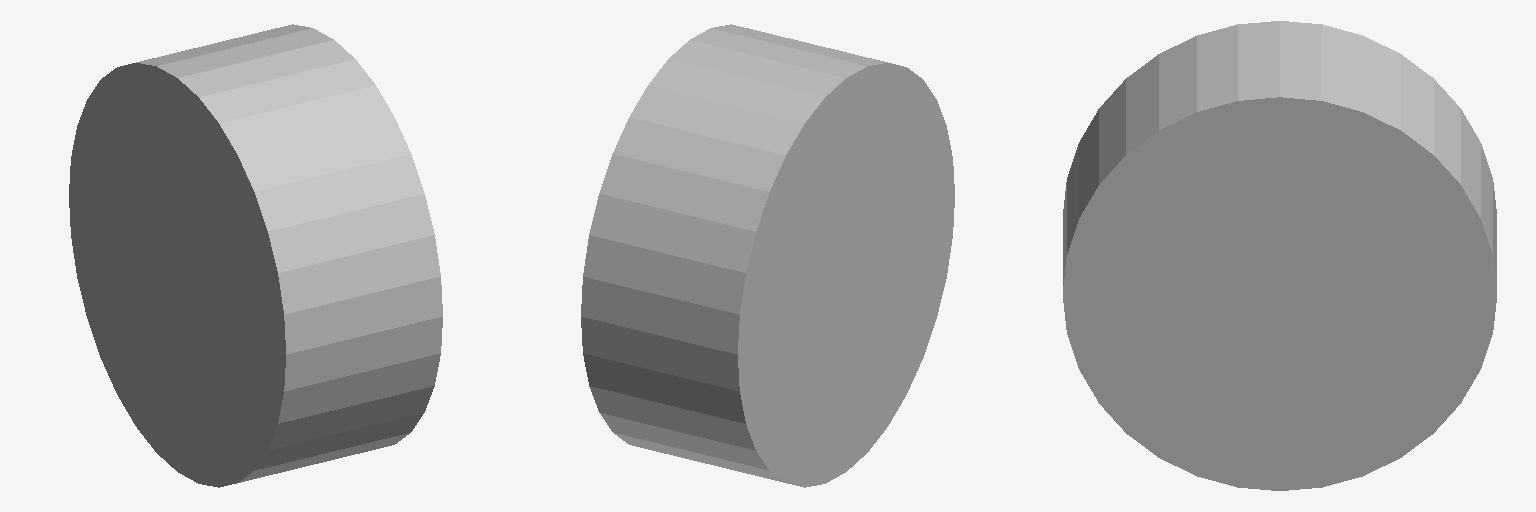
The model's file is wheels_r06_h05.obj.
3 views of the same model, side by side, from view 1: azimuth 30°, elevation 25°; view 2: azimuth 150°, elevation 25°; view 3: azimuth 270°, elevation 25° (orthographic).
Visible parts, largest first — view 1: Cylindre; view 2: Cylindre; view 3: Cylindre.
Boxes of the visible parts, x1=… form: Cylindre: x1=69, y1=24, x2=442, y2=487; Cylindre: x1=581, y1=24, x2=954, y2=487; Cylindre: x1=1063, y1=21, x2=1496, y2=490.
Size of the model in its own units: 0.5 by 1.2 by 1.2.